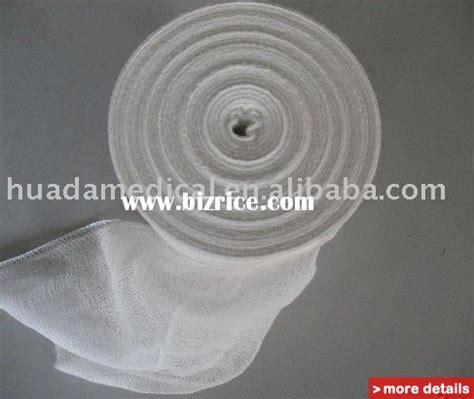cotton: (17, 12, 388, 389)
